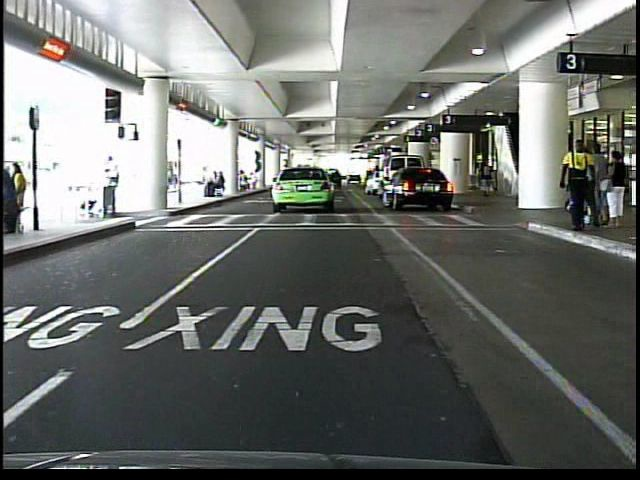person: (553, 139, 596, 238), (584, 145, 610, 233), (99, 155, 132, 222), (602, 145, 624, 236), (476, 155, 499, 204)
